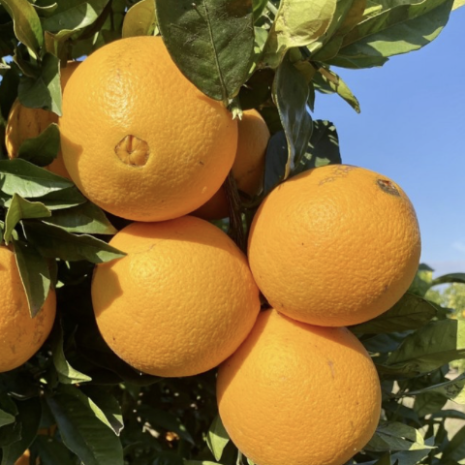orange: (51, 28, 258, 223), (191, 296, 402, 459), (77, 203, 265, 374), (248, 167, 441, 323)
